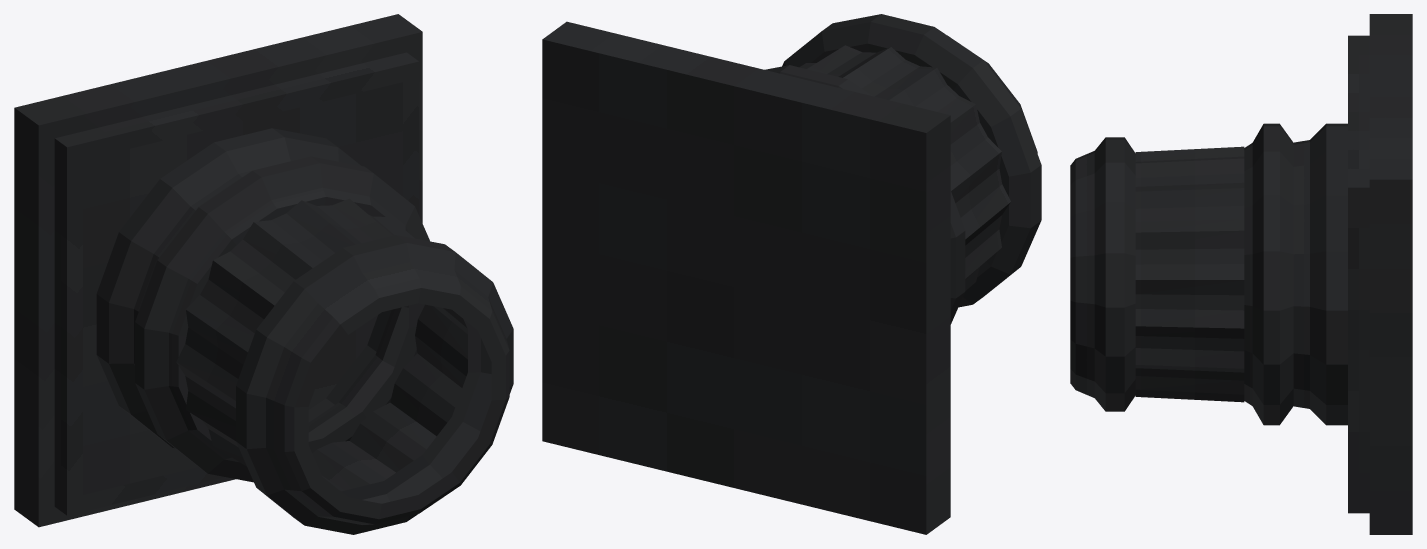
The model's file is decopole_lafluted_base_n.obj.
3 views of the same model, side by side, from view 1: azimuth 30°, elevation 25°; view 2: azimuth 150°, elevation 25°; view 3: azimuth 270°, elevation 25° (orthographic). The views are drawn at different scales.
Visible parts, largest first — view 1: decopole_lafluted_base_n; view 2: decopole_lafluted_base_n; view 3: decopole_lafluted_base_n.
Boxes of the visible parts, left/top/right/bottom form: decopole_lafluted_base_n: left=14, top=14, right=513, bottom=534; decopole_lafluted_base_n: left=542, top=14, right=1041, bottom=534; decopole_lafluted_base_n: left=1070, top=14, right=1412, bottom=534.
Bounding box in the file's own units: 0.9 × 0.9 × 0.7863.
